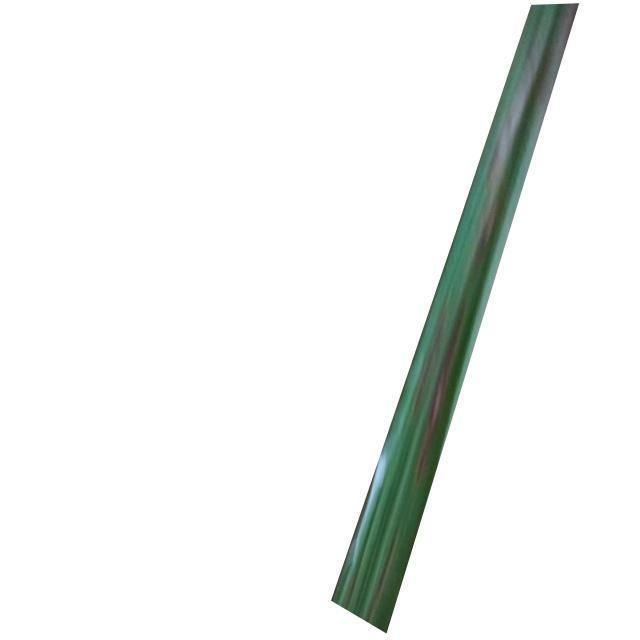Bacterial_Leaf_Blight: (400, 239, 484, 506)
